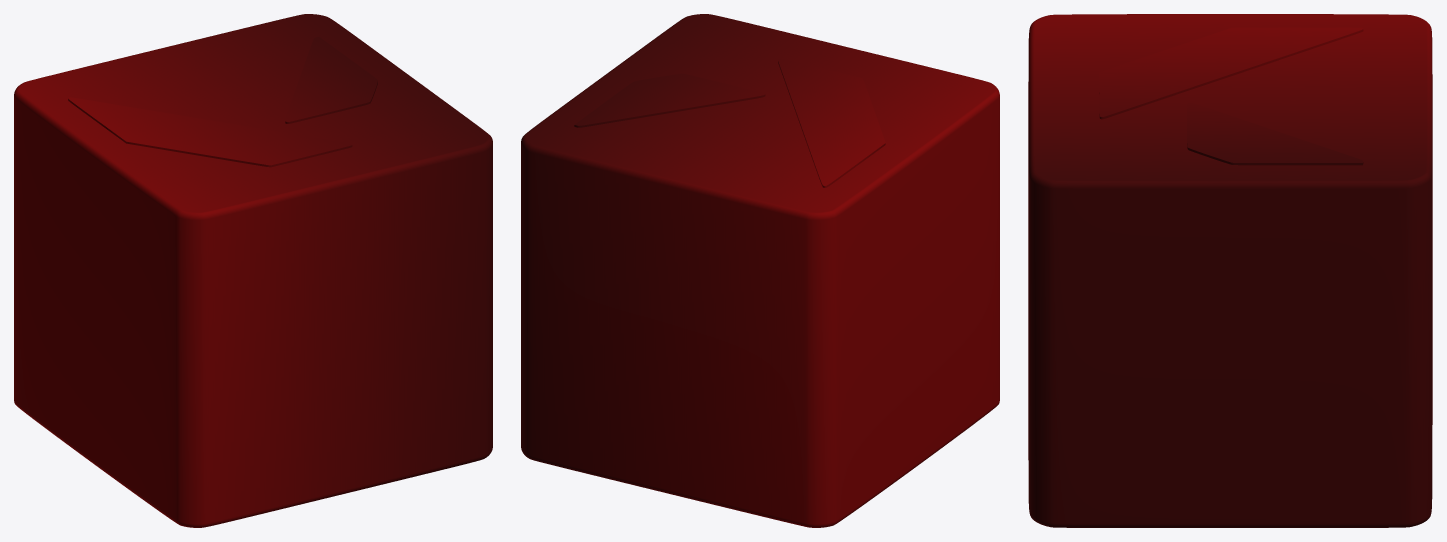
3 views of the same model, side by side, from view 1: azimuth 30°, elevation 25°; view 2: azimuth 150°, elevation 25°; view 3: azimuth 270°, elevation 25° (orthographic). The views are drawn at different scales.
Size of what is drawn, in the model's own units: 0.445 by 0.4243 by 0.4449.
2 materials, 2 textured.
